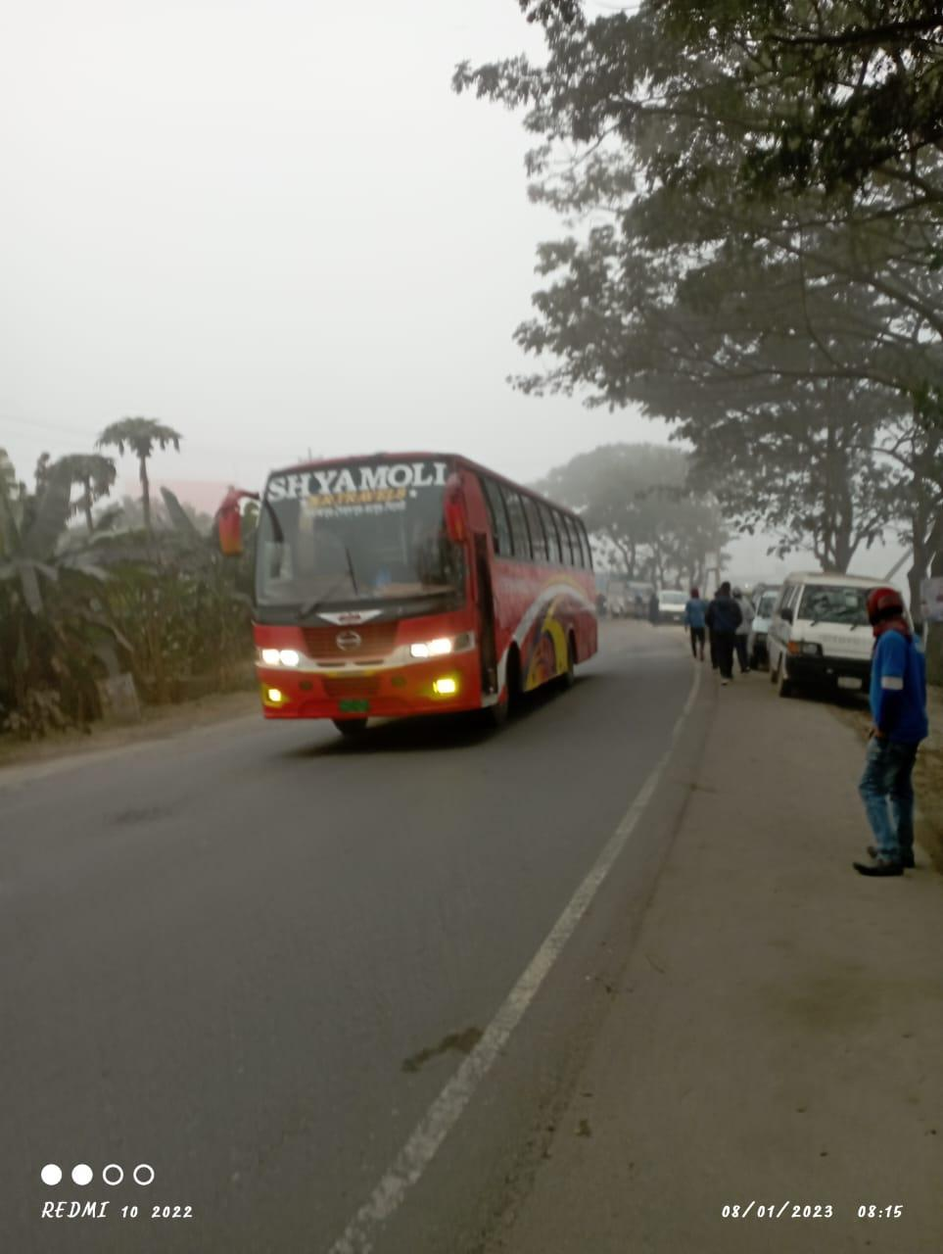Bus: (215, 439, 609, 734)
Car: (776, 560, 915, 713), (652, 585, 695, 626)
